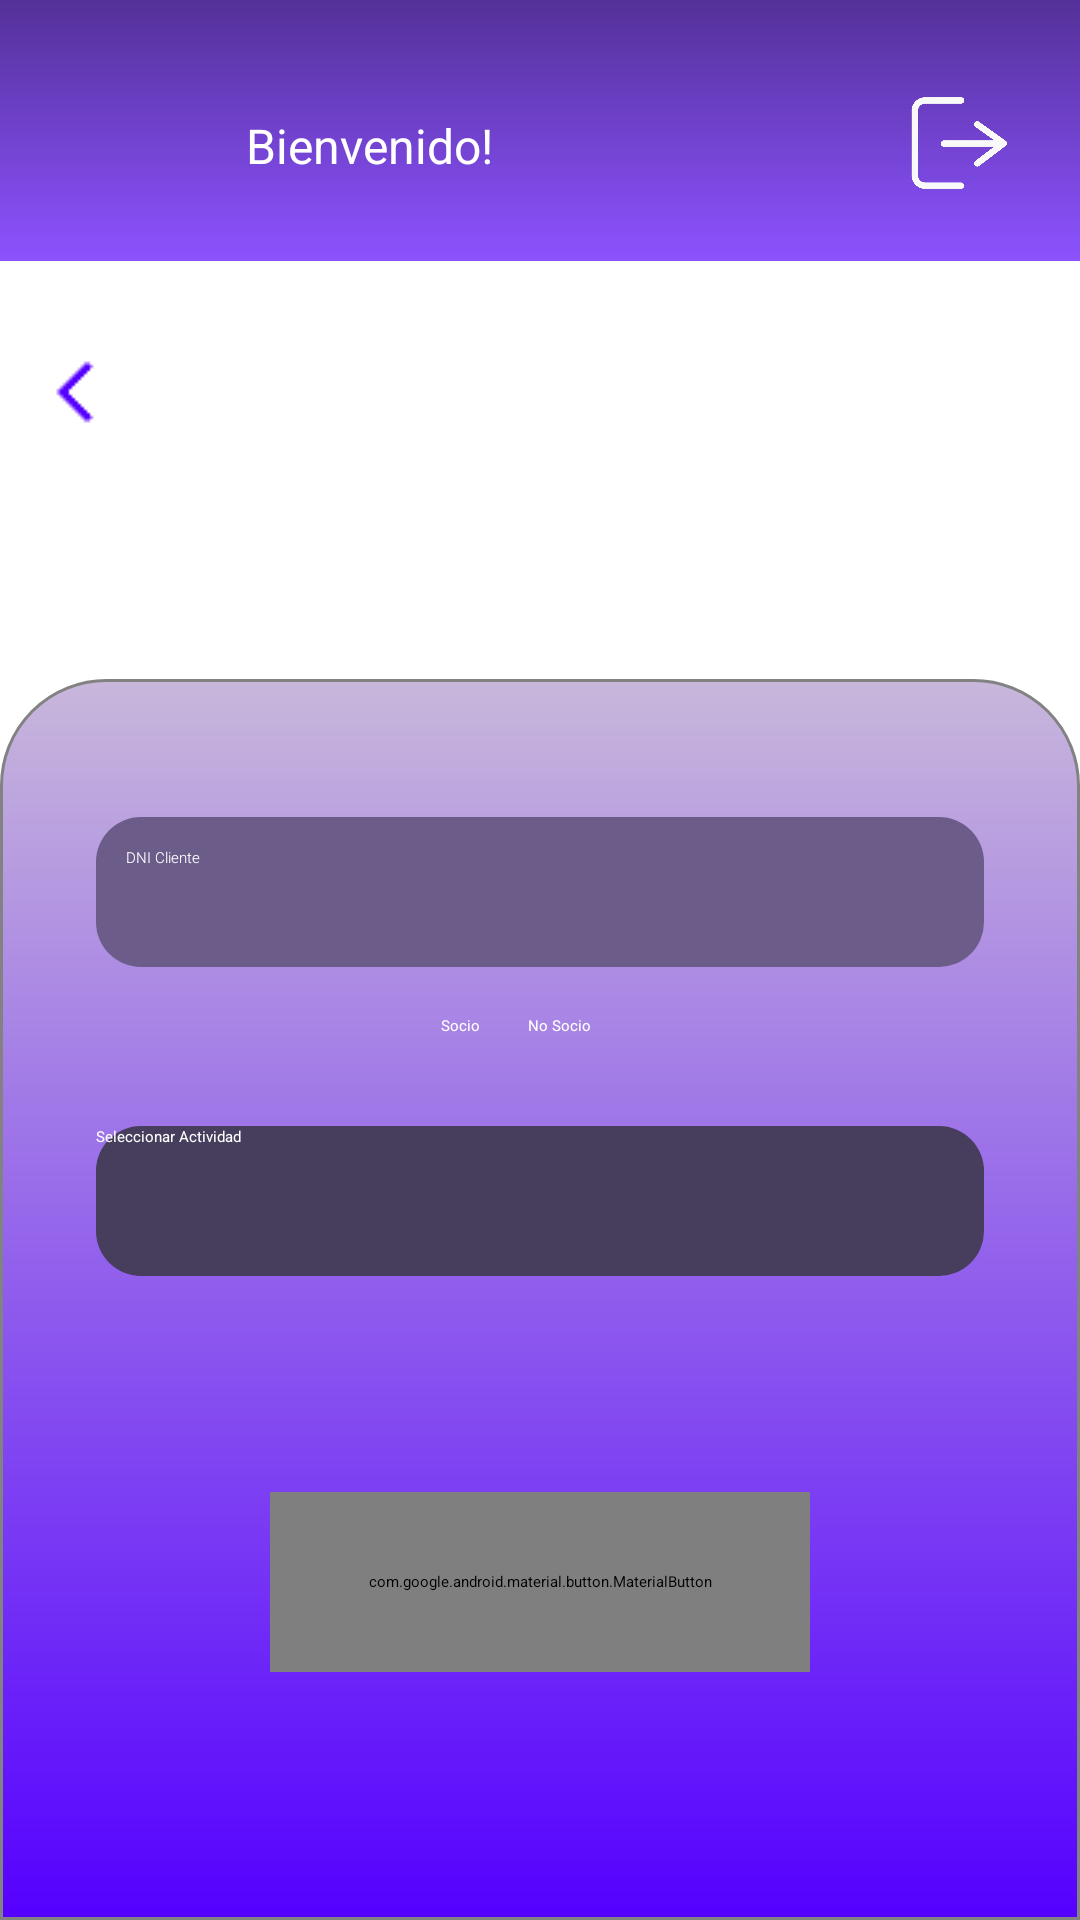

Named icons in this screenshot (1080×1920) and their centers, point (x, y):
back: point (75, 392)
salir: point (957, 145)
